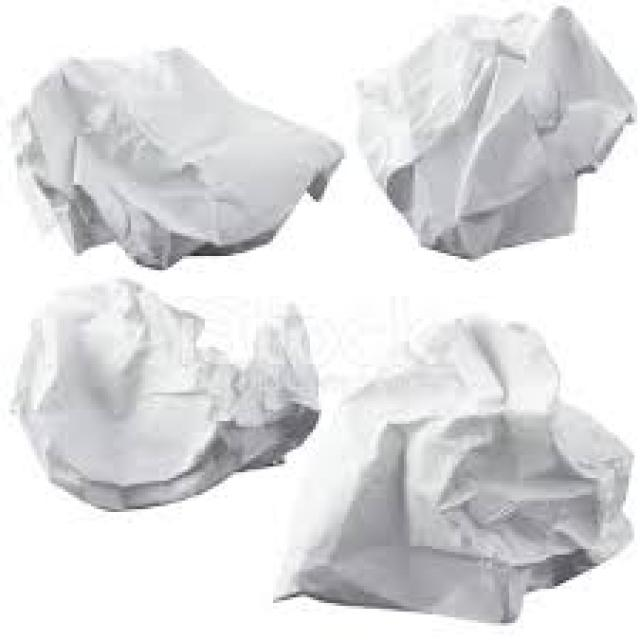crampled paper: (16, 49, 342, 268)
